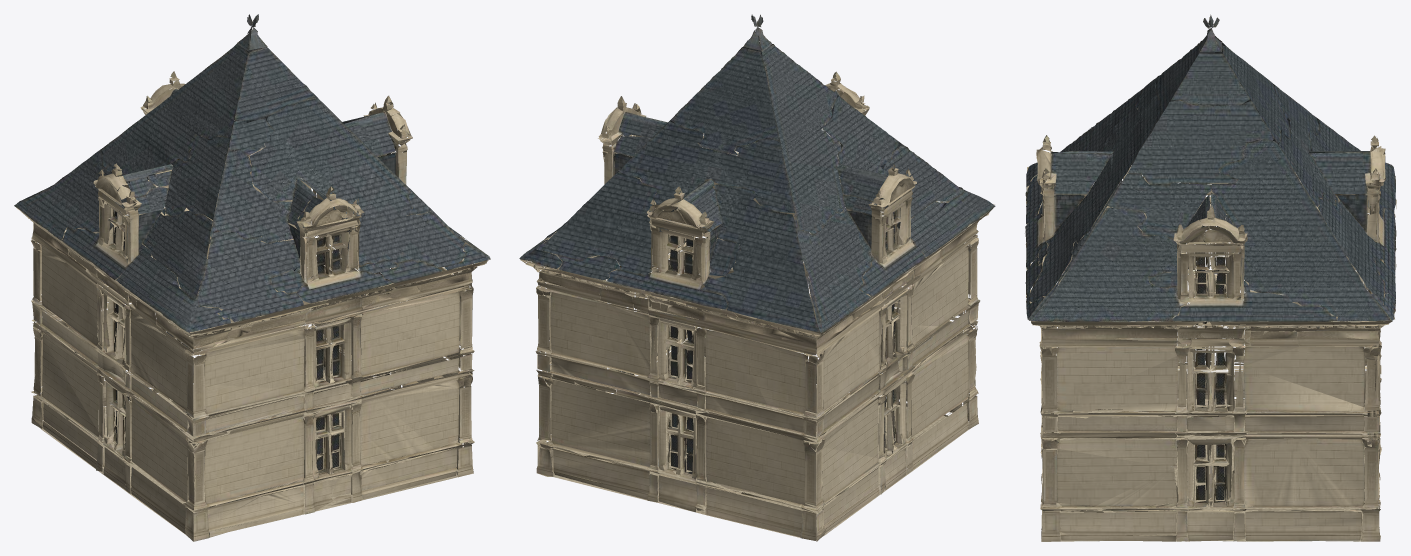
Rendered from pavillon.glb.
The picture shows the model from 3 angles, left to right: view 1: azimuth 30°, elevation 25°; view 2: azimuth 150°, elevation 25°; view 3: azimuth 270°, elevation 25°; orthographic projection. The views are drawn at different scales.
Visible parts, largest first — view 1: pavillon; view 2: pavillon; view 3: pavillon.
Boxes of the visible parts, box(x1,y1,x2,y2) form: pavillon: box(14, 14, 490, 541); pavillon: box(519, 14, 995, 541); pavillon: box(1025, 14, 1396, 541).
Size of the model in its own units: 13.29 by 17.97 by 13.35.
Materials: 1 (1 with a texture image).
